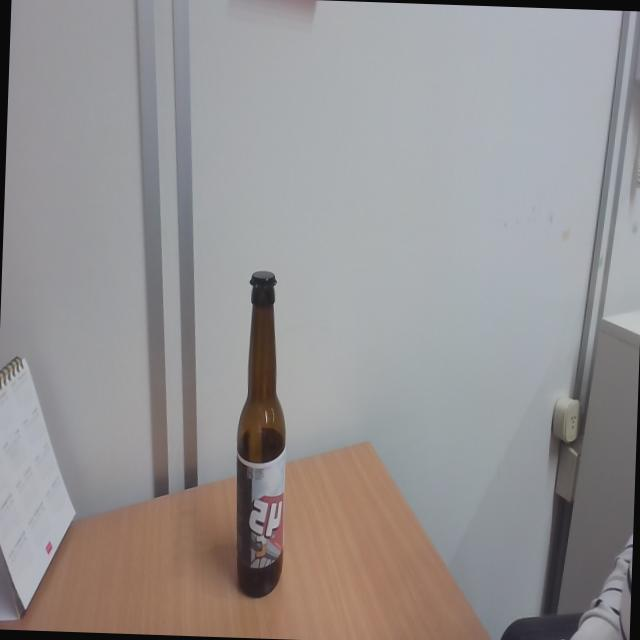Bottle: (230, 268, 292, 600)
Cap: (247, 270, 279, 291)
Label: (234, 454, 284, 570)
